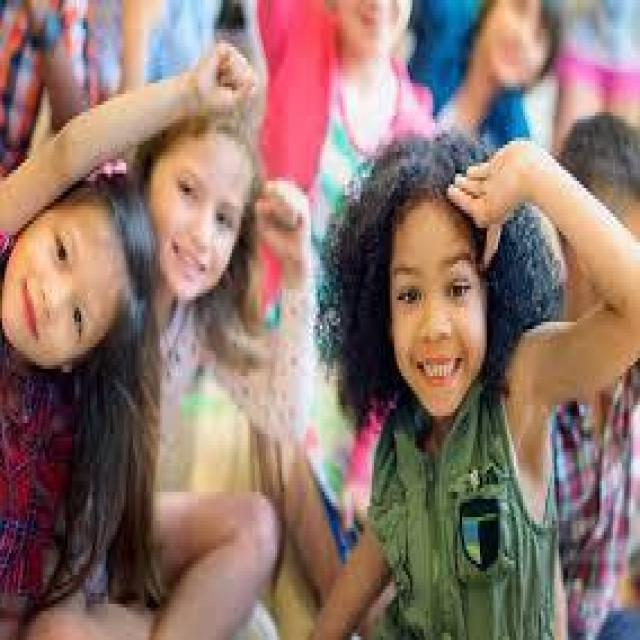person: (316, 98, 628, 636), (9, 109, 158, 629), (138, 62, 295, 430)
